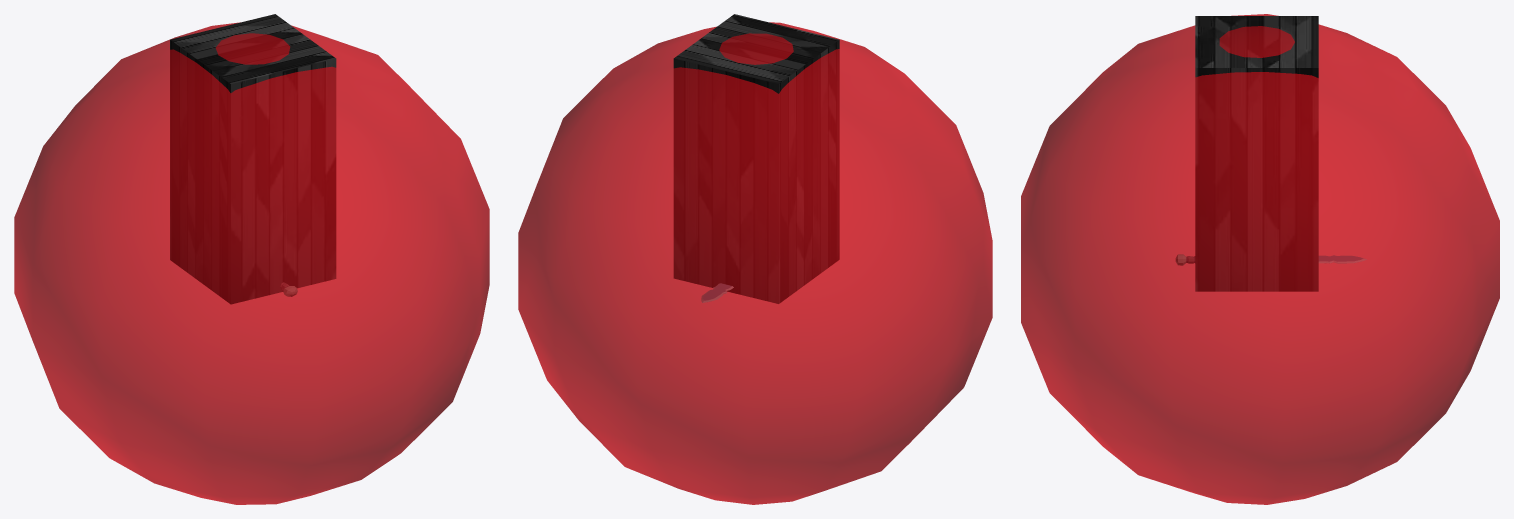
The model's file is Prism.glb.
The picture shows the model from 3 angles, left to right: view 1: azimuth 30°, elevation 25°; view 2: azimuth 150°, elevation 25°; view 3: azimuth 270°, elevation 25°; orthographic projection.
Visible parts, largest first — view 1: Sphere, BoxMesh; view 2: Sphere, BoxMesh; view 3: Sphere, BoxMesh.
Boxes of the visible parts, box(x1,y1,x2,y2) form: Sphere: box(14, 22, 489, 504); BoxMesh: box(170, 14, 336, 304); Sphere: box(518, 22, 992, 504); BoxMesh: box(673, 14, 839, 303); Sphere: box(1021, 14, 1499, 504); BoxMesh: box(1195, 16, 1318, 291).
Size of what is drawn, in the model's own units: 1.96 by 2 by 1.94.
Materials: 7 (1 with a texture image).
